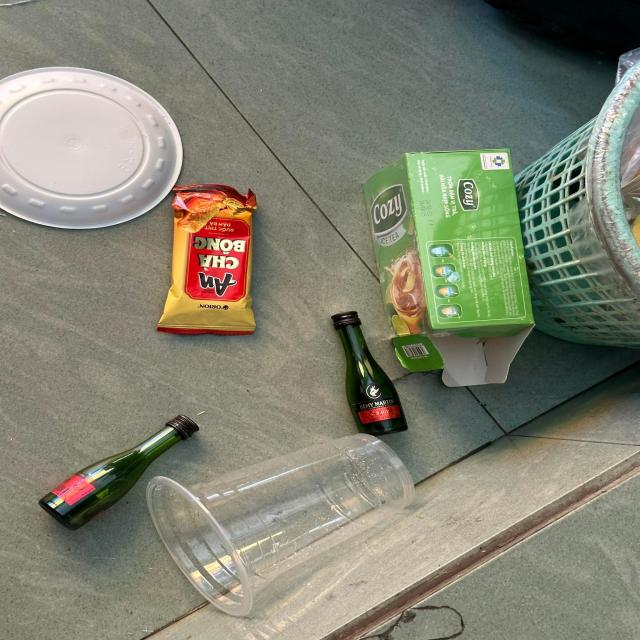bottle: (38, 416, 200, 530), (332, 311, 409, 436)
cardboard box: (362, 148, 536, 387)
packet: (156, 184, 257, 335)
plastic glass: (146, 433, 416, 617)
plastic holder: (0, 65, 183, 229)
